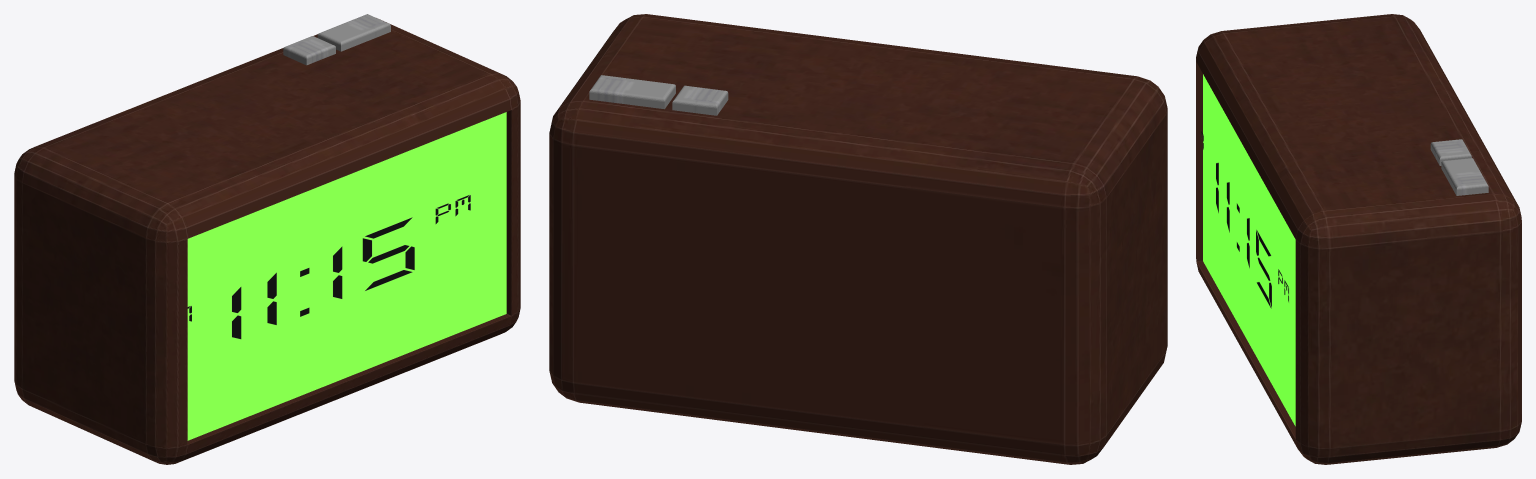
The model's file is reloj_de_mesa.glb.
3 renders of one model, left to right at view 1: azimuth 30°, elevation 25°; view 2: azimuth 150°, elevation 25°; view 3: azimuth 270°, elevation 25°, orthographic. The views are drawn at different scales.
Parts seen in each view (by area): view 1: Cube.006, Plane.001, Cube.007, Cube.008; view 2: Cube.006, Cube.007, Cube.008; view 3: Cube.006, Plane.001, Cube.007, Cube.008.
Part boxes in pixels (x1,y1,x2,y2): Cube.006: [14, 19, 520, 464]; Plane.001: [187, 112, 506, 440]; Cube.007: [317, 14, 390, 51]; Cube.008: [283, 36, 335, 65]; Cube.006: [549, 14, 1167, 464]; Cube.007: [589, 75, 675, 109]; Cube.008: [672, 85, 728, 115]; Cube.006: [1196, 14, 1521, 464]; Plane.001: [1203, 74, 1295, 426]; Cube.007: [1441, 158, 1488, 195]; Cube.008: [1430, 139, 1471, 165].
Size of the model in its own units: 1.22 by 0.6744 by 0.7672.
4 materials, 3 textured.
